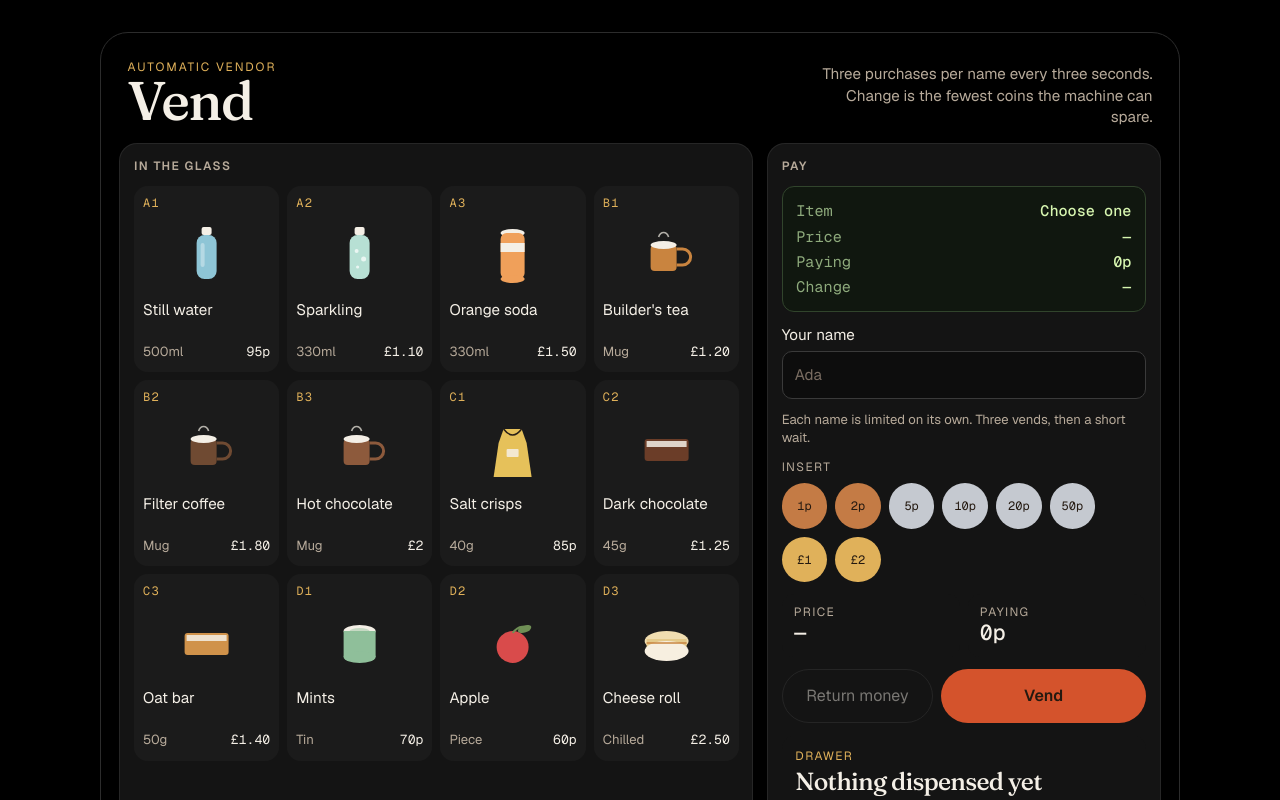
Test case: the vending screen › returns the money when the customer asks for it back
Step 1. Click the button "£1" → (804, 560), box [782,537,827,582]
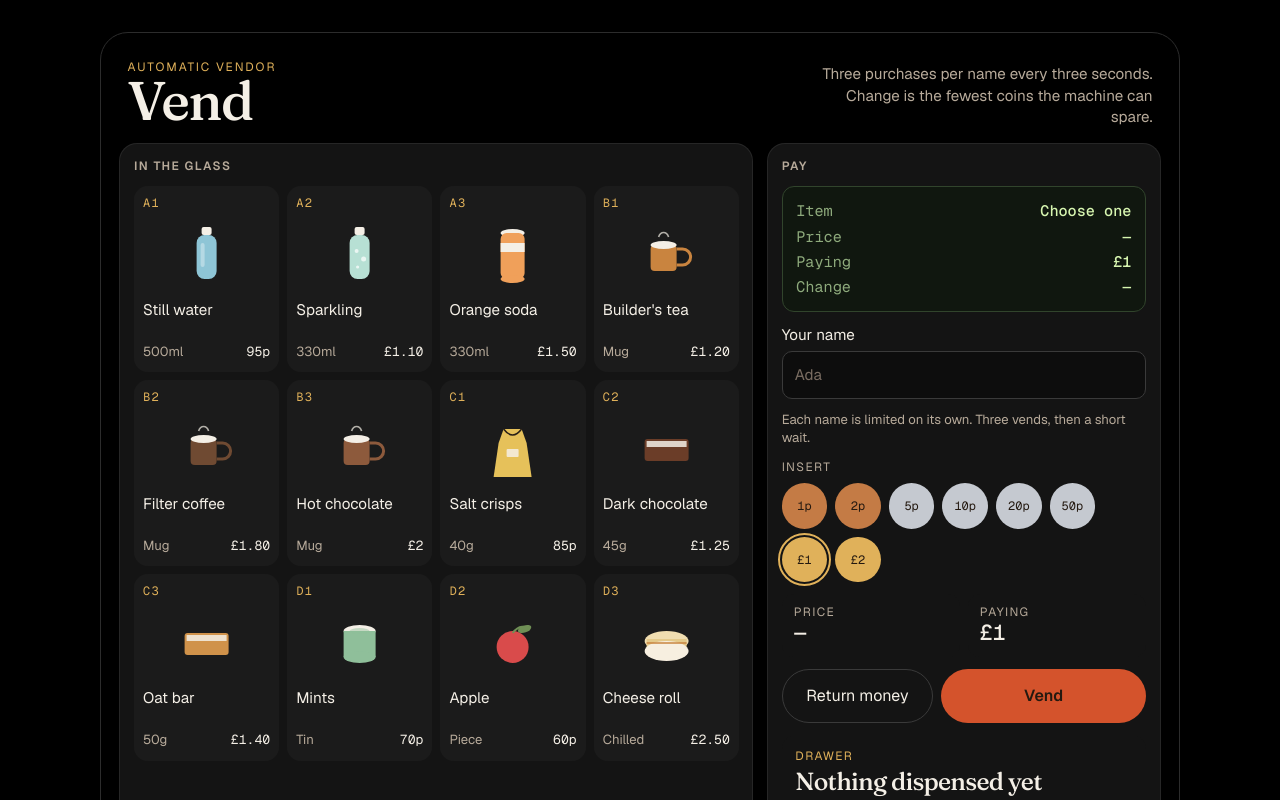
Step 2. Click the button "Return money" → (857, 696), box [782,669,933,723]
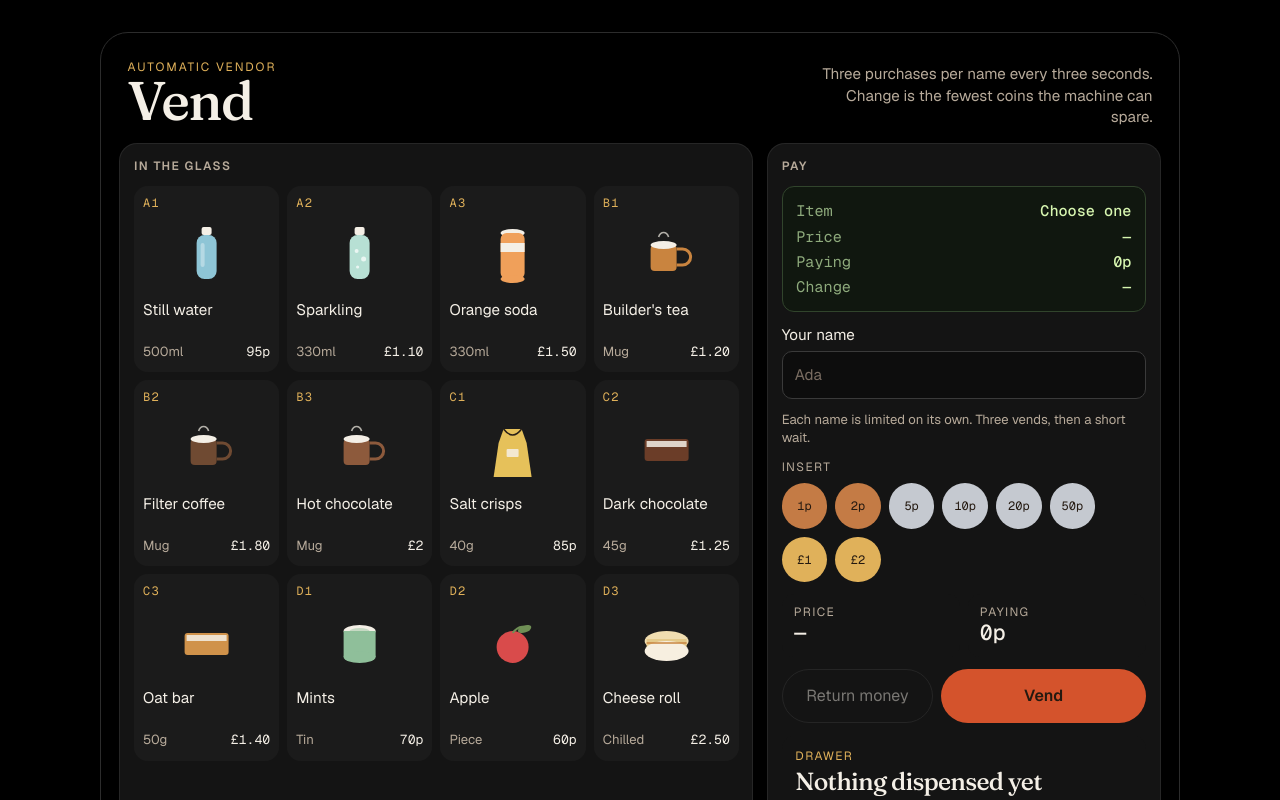
Expected: the button "Return money" is disabled, [782,669,933,723]
